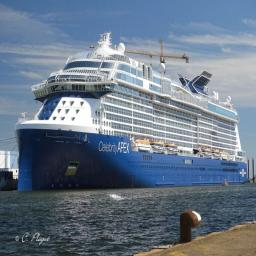cruises: (10, 34, 252, 188)
